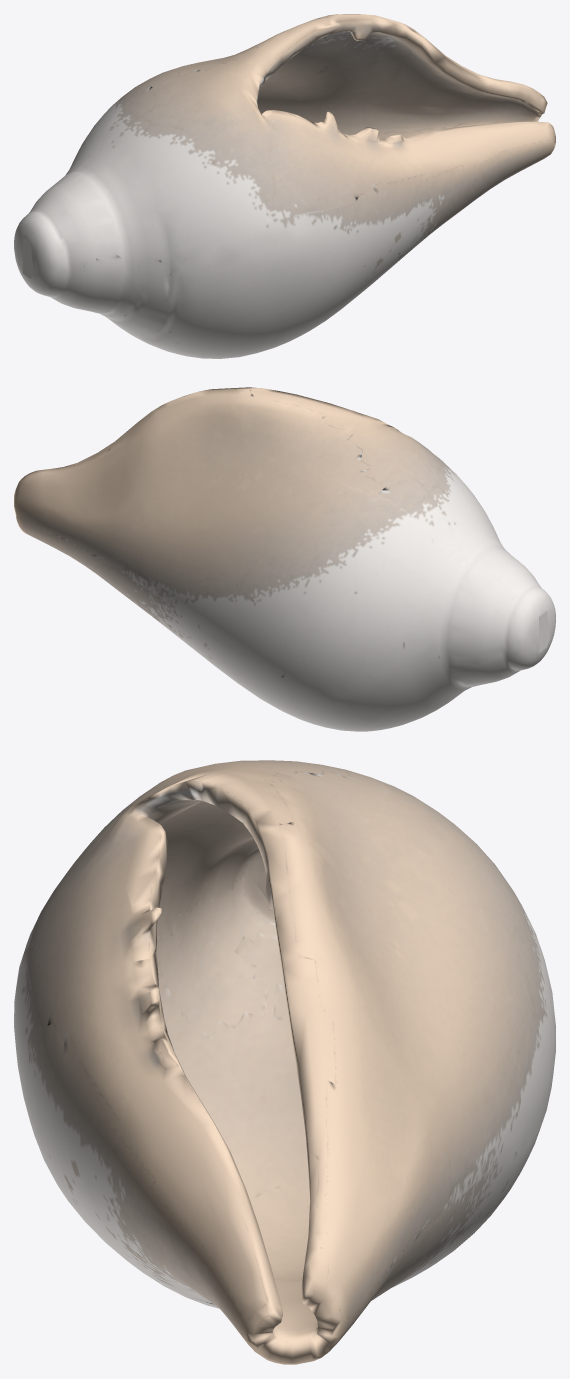
Rendered from classic.glb.
The picture shows the model from 3 angles, top to bottom: view 1: azimuth 30°, elevation 25°; view 2: azimuth 150°, elevation 25°; view 3: azimuth 270°, elevation 25°; orthographic projection. The views are drawn at different scales.
Parts seen in each view (by area): view 1: Shell_0; view 2: Shell_0; view 3: Shell_0.
Boxes of the visible parts, box(x1,y1,x2,y2) form: Shell_0: box(14, 14, 555, 358); Shell_0: box(14, 387, 555, 731); Shell_0: box(14, 760, 555, 1364).
Bounding box in the file's own units: 4.04 × 2.23 × 1.99.
1 material, 1 textured.
